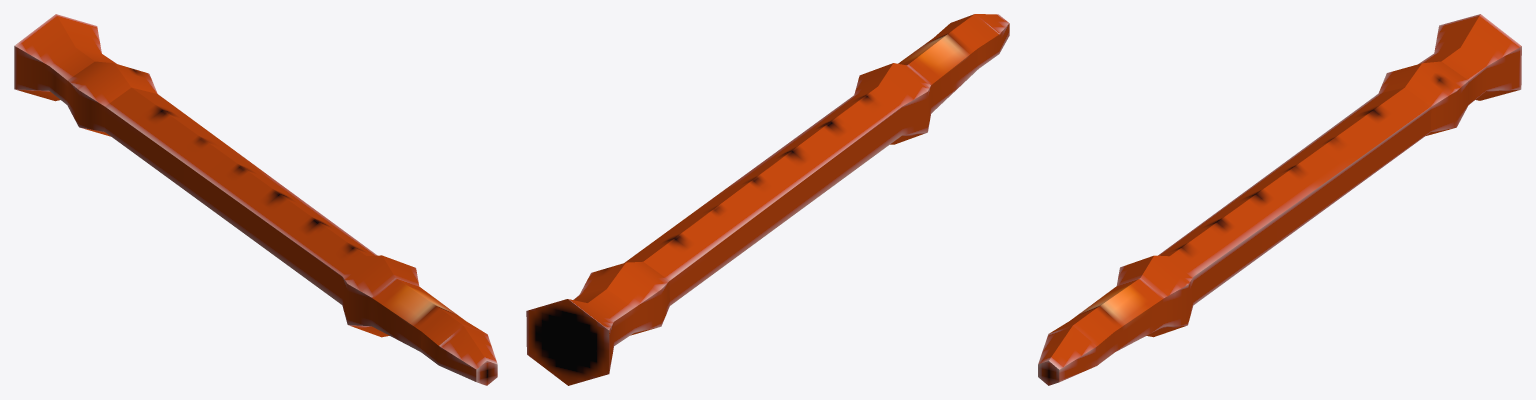
Rendered from flauta-2.obj.
3 views of the same model, side by side, from view 1: azimuth 30°, elevation 25°; view 2: azimuth 150°, elevation 25°; view 3: azimuth 330°, elevation 25° (orthographic).
Visible parts, largest first — view 1: f2_Flauta_1:pCylinder3; view 2: f2_Flauta_1:pCylinder3; view 3: f2_Flauta_1:pCylinder3.
Part boxes in pixels (left/top/right/bottom): f2_Flauta_1:pCylinder3: left=14, top=14, right=497, bottom=385; f2_Flauta_1:pCylinder3: left=526, top=14, right=1009, bottom=385; f2_Flauta_1:pCylinder3: left=1038, top=14, right=1521, bottom=385.
Bounding box in the file's own units: 0.5648 × 0.5662 × 5.09.
1 material, 1 textured.
